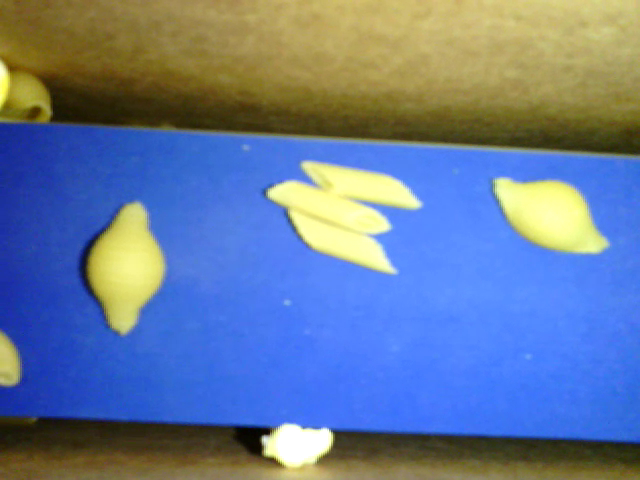penne: (288, 207, 397, 279), (259, 181, 392, 240), (299, 160, 425, 211)
shell: (74, 191, 170, 340), (492, 175, 611, 256), (2, 67, 59, 129)
